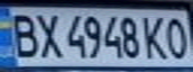4: (60, 11, 84, 58), (103, 12, 124, 60)
8: (118, 12, 142, 60)
9: (81, 11, 103, 60)
B: (3, 9, 42, 58)
K: (139, 12, 172, 61)
O: (160, 14, 193, 61)
X: (33, 9, 63, 60)
